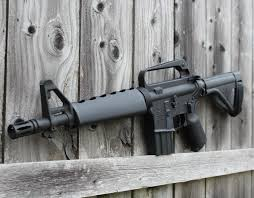gun: (5, 58, 245, 157)
